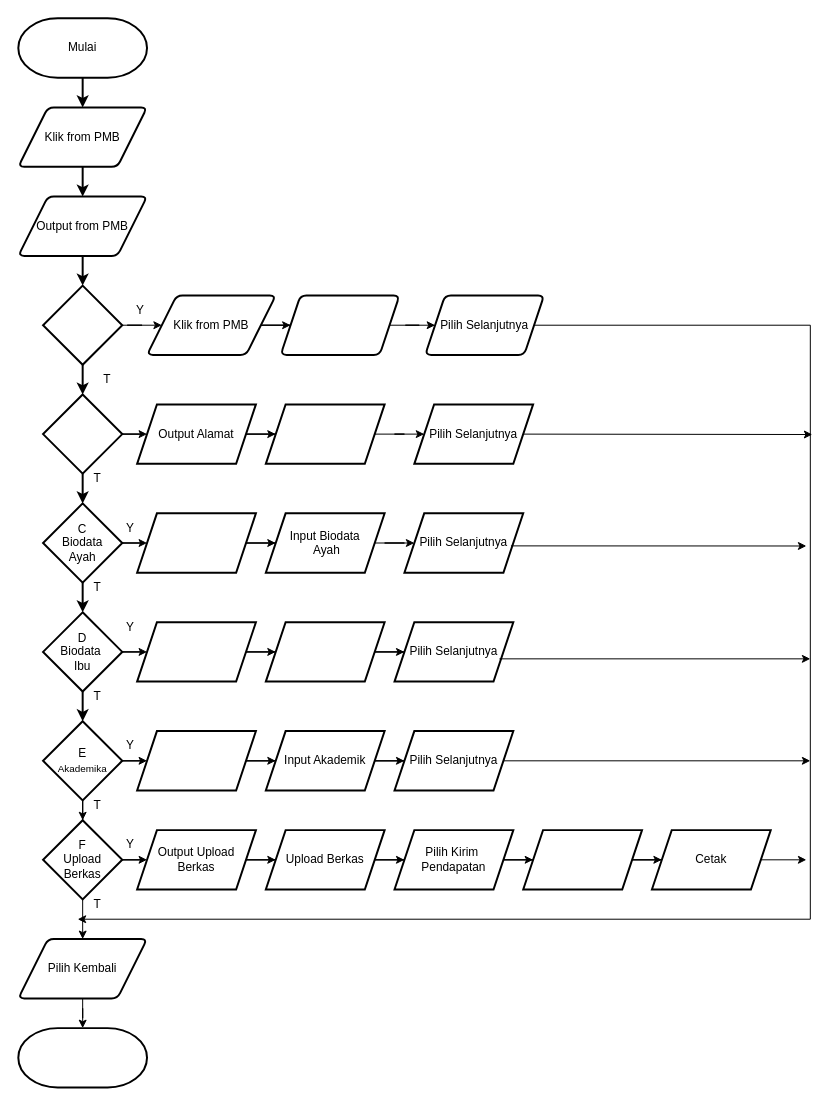
Image size: 838x1105. Some labels were removed from this diagram. The shapes that lost their labels are listed below. From the top down, each one's centre as x and y in pixels, then its label:
point (82, 324): A Data PMB
point (339, 324): Input Data PMB
point (82, 433): B Alamat
point (324, 433): Input Data Alamat
point (196, 542): Output Biodata Ayah
point (196, 651): Output Biodata Ibu
point (324, 651): Input Biodata Ibu
point (196, 760): Output Akademik
point (582, 859): Output Berhasil
point (82, 1057): Selesai
